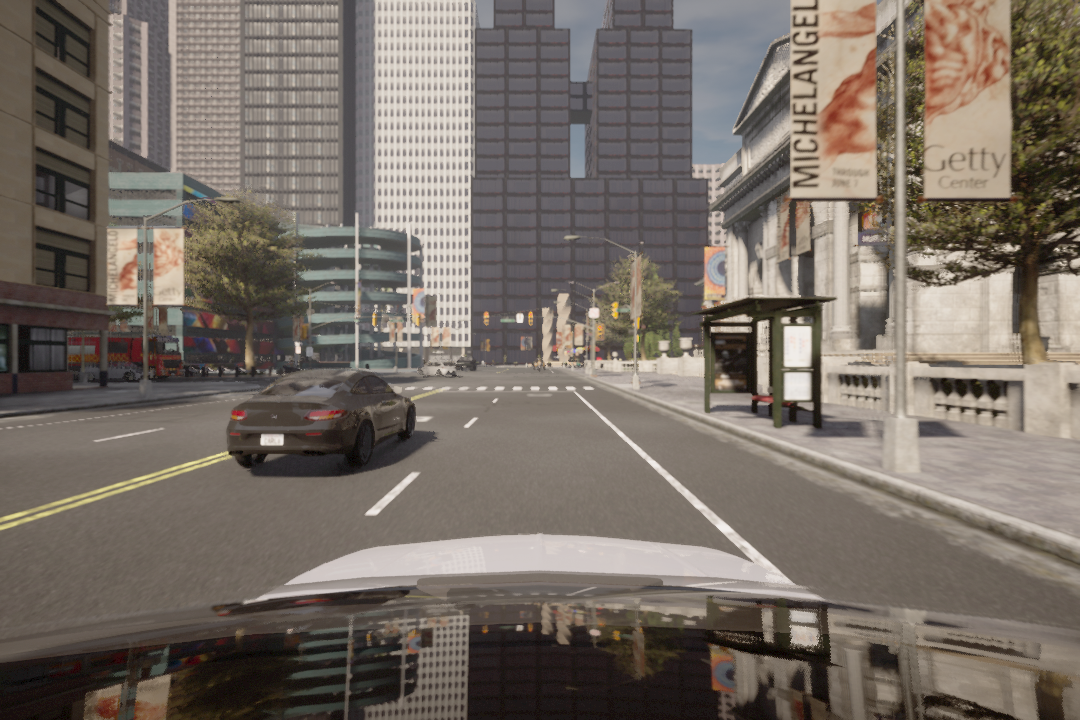walkside: (397, 382, 608, 396)
